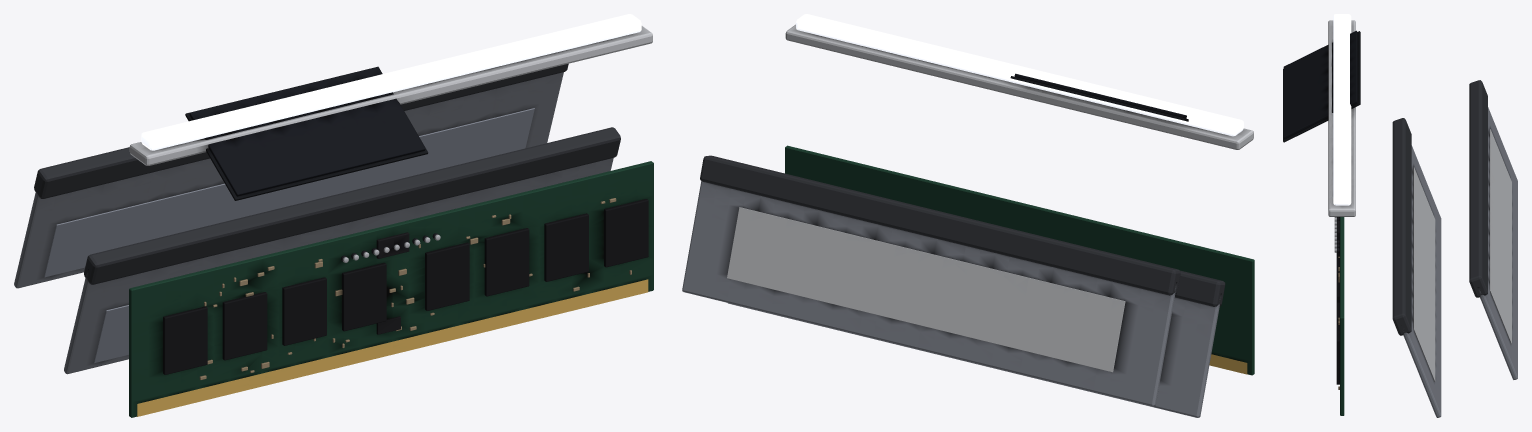
The model's file is ram_open.glb.
3 renders of one model, left to right at view 1: azimuth 30°, elevation 25°; view 2: azimuth 150°, elevation 25°; view 3: azimuth 270°, elevation 25°, orthographic. The views are drawn at different scales.
Parts seen in each view (by area): view 1: X_ram_open, X_L_hs1, X_L_hs0, X_L_rgbbar, X_L_bank; view 2: X_L_hs1, X_ram_open, X_L_rgbbar, X_L_hs0, X_L_bank; view 3: X_L_hs0, X_L_hs1, X_L_rgbbar, X_L_bank, X_ram_open.
Boxes of the visible parts, x1,y1,x2,y2 form: X_ram_open: [129, 161, 653, 417]; X_L_hs1: [14, 63, 568, 288]; X_L_hs0: [64, 127, 620, 374]; X_L_rgbbar: [129, 14, 652, 165]; X_L_bank: [185, 66, 428, 200]; X_L_hs1: [682, 155, 1180, 406]; X_ram_open: [785, 145, 1254, 375]; X_L_rgbbar: [785, 14, 1253, 149]; X_L_hs0: [728, 270, 1225, 417]; X_L_bank: [1010, 73, 1188, 121]; X_L_hs0: [1392, 118, 1441, 417]; X_L_hs1: [1469, 80, 1517, 379]; X_L_rgbbar: [1328, 14, 1355, 216]; X_L_bank: [1283, 30, 1360, 142]; X_ram_open: [1334, 217, 1344, 415].
Size of the model in its own units: 0.1346 by 0.0689 by 0.0675.
